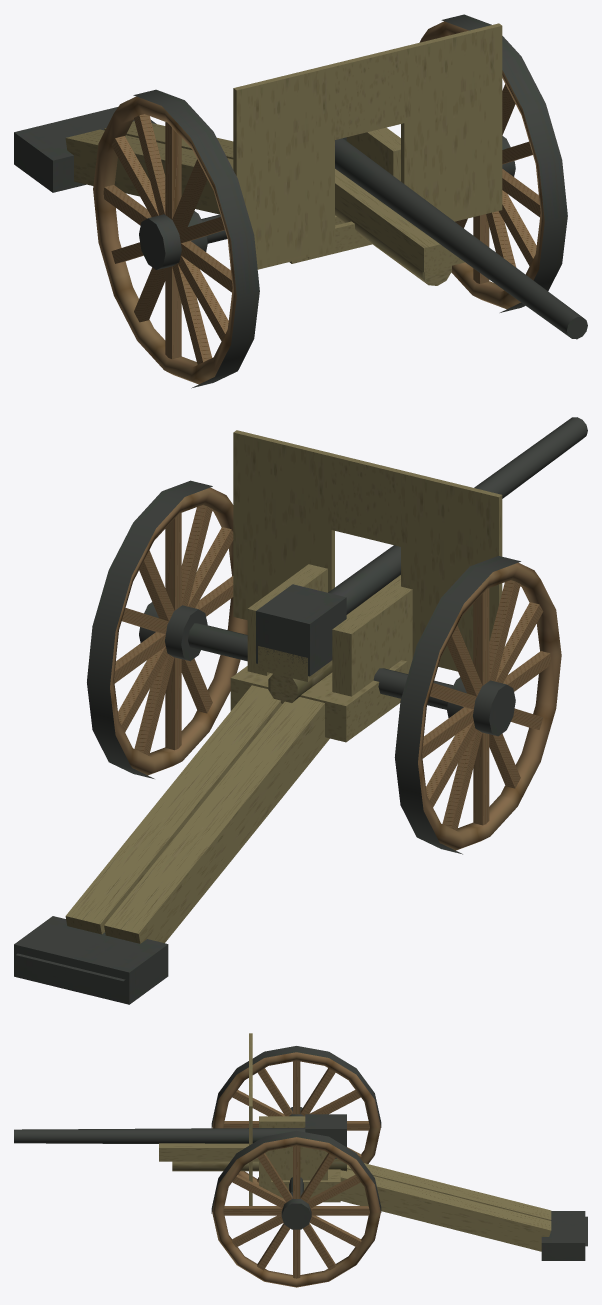
Rendered from artillery.glb.
The picture shows the model from 3 angles, top to bottom: view 1: azimuth 30°, elevation 25°; view 2: azimuth 150°, elevation 25°; view 3: azimuth 270°, elevation 25°; orthographic projection. The views are drawn at different scales.
Visible parts, largest first — view 1: shield, wheels_right, barrel, wheels_left, trail_right, carriage, trail_left; view 2: shield, wheels_right, wheels_left, trail_right, trail_left, carriage, barrel; view 3: wheels_left, trail_left, barrel, wheels_right, carriage, trail_right, shield.
Part boxes in pixels (x1,y1,x2,y2): shield: [233, 23, 502, 269]; wheels_right: [93, 89, 259, 388]; barrel: [335, 137, 587, 339]; wheels_left: [419, 14, 567, 312]; trail_right: [14, 113, 233, 214]; carriage: [201, 127, 400, 263]; trail_left: [54, 107, 233, 159]; shield: [233, 430, 502, 671]; wheels_right: [394, 556, 561, 854]; wheels_left: [87, 480, 247, 778]; trail_right: [52, 697, 329, 1004]; trail_left: [14, 685, 282, 995]; carriage: [188, 564, 453, 742]; barrel: [256, 417, 587, 703]; wheels_left: [211, 1130, 381, 1287]; trail_left: [340, 1169, 587, 1260]; barrel: [14, 1114, 346, 1171]; wheels_right: [211, 1046, 381, 1185]; carriage: [259, 1116, 340, 1202]; trail_right: [347, 1163, 587, 1232]; shield: [249, 1033, 252, 1205].
Size of the model in its own units: 1.82 by 1.54 by 4.57.
3 materials, 3 textured.
